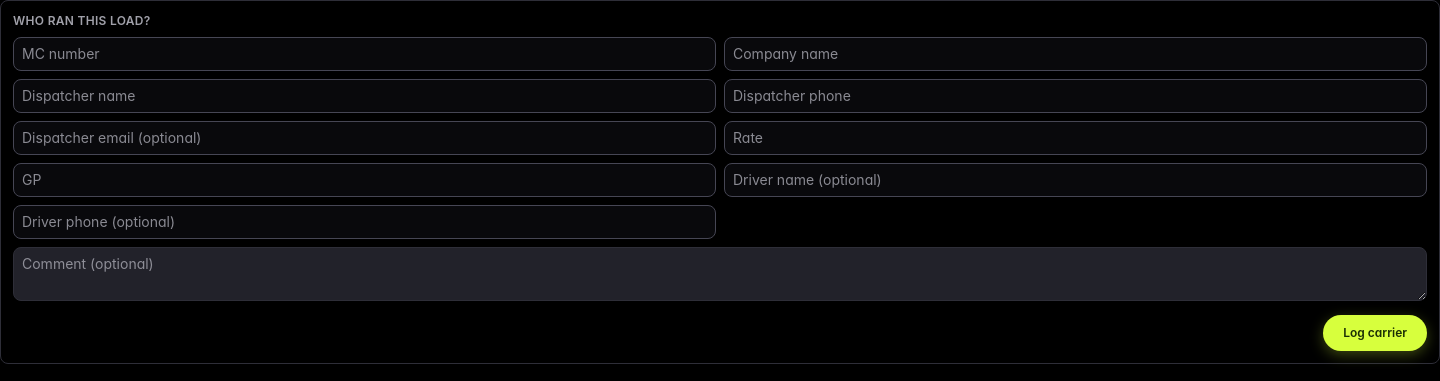
Test case: BookingCarrierFields › suggests gp as targetPay minus the entered rate, once both are known
This screenshot has width=1440, height=381.
In the field named "rate paid": (1076, 138) [724, 121, 1427, 155], type "1500"
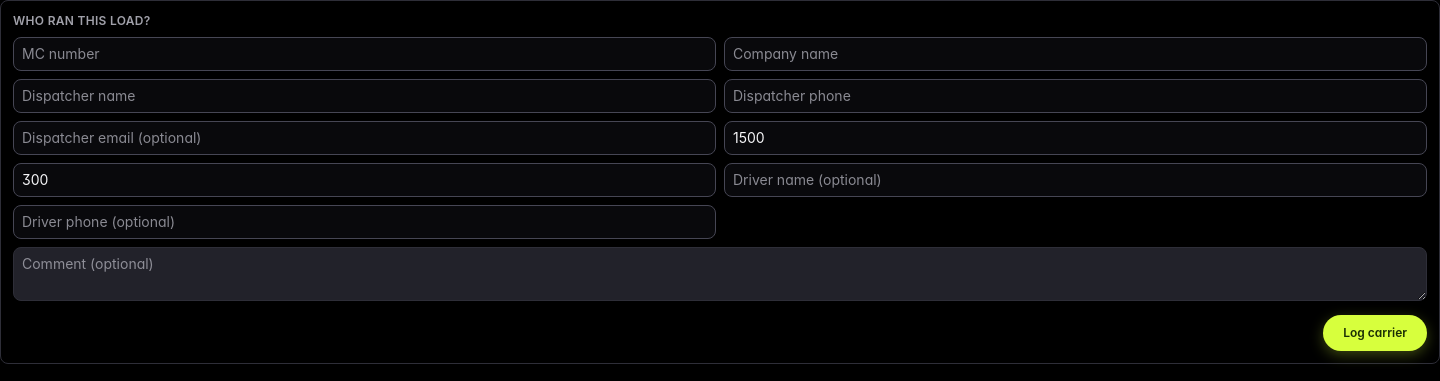
Check: the field named "gross profit" holds "300", box [13, 163, 716, 197]
